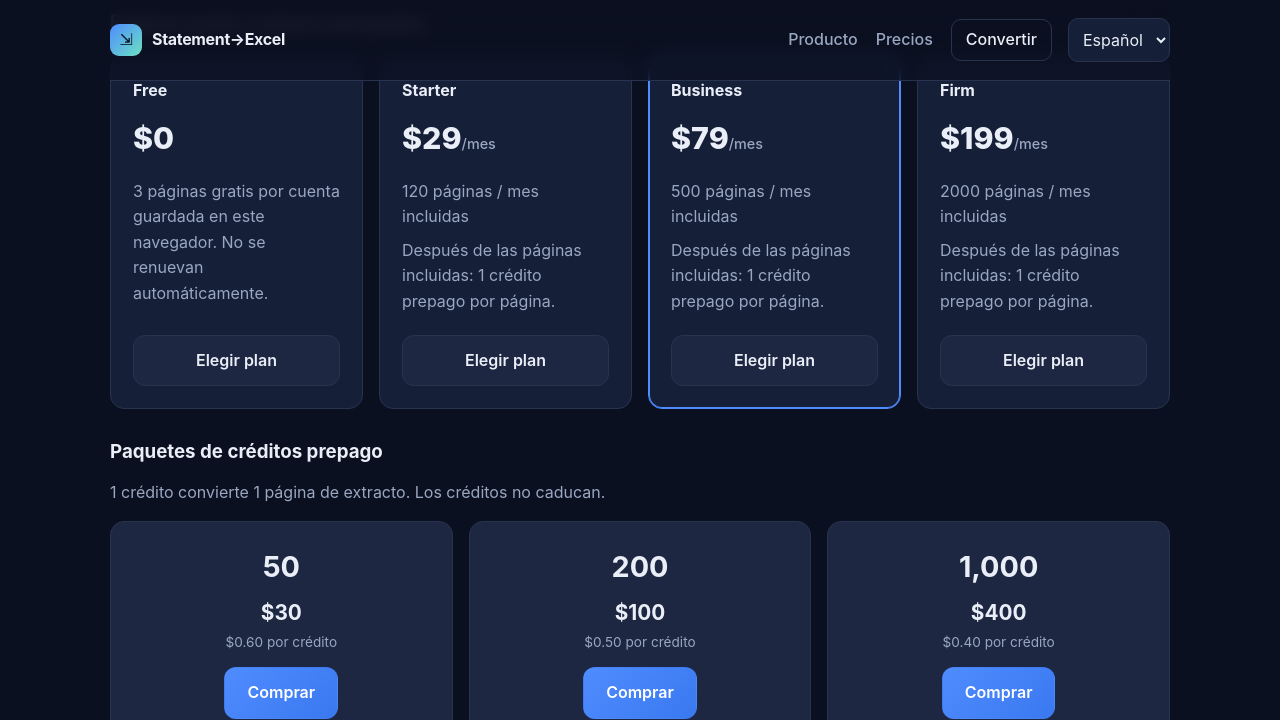
Test: server-authoritative checkout › shows only the localized checkout error in es
(page scrolled)
What coordinates should you click on to do the following:
click the button "Elegir plan" below "120"
I would click on:
 (506, 360)
Its box is 402,334 -> 609,386.
(page scrolled)
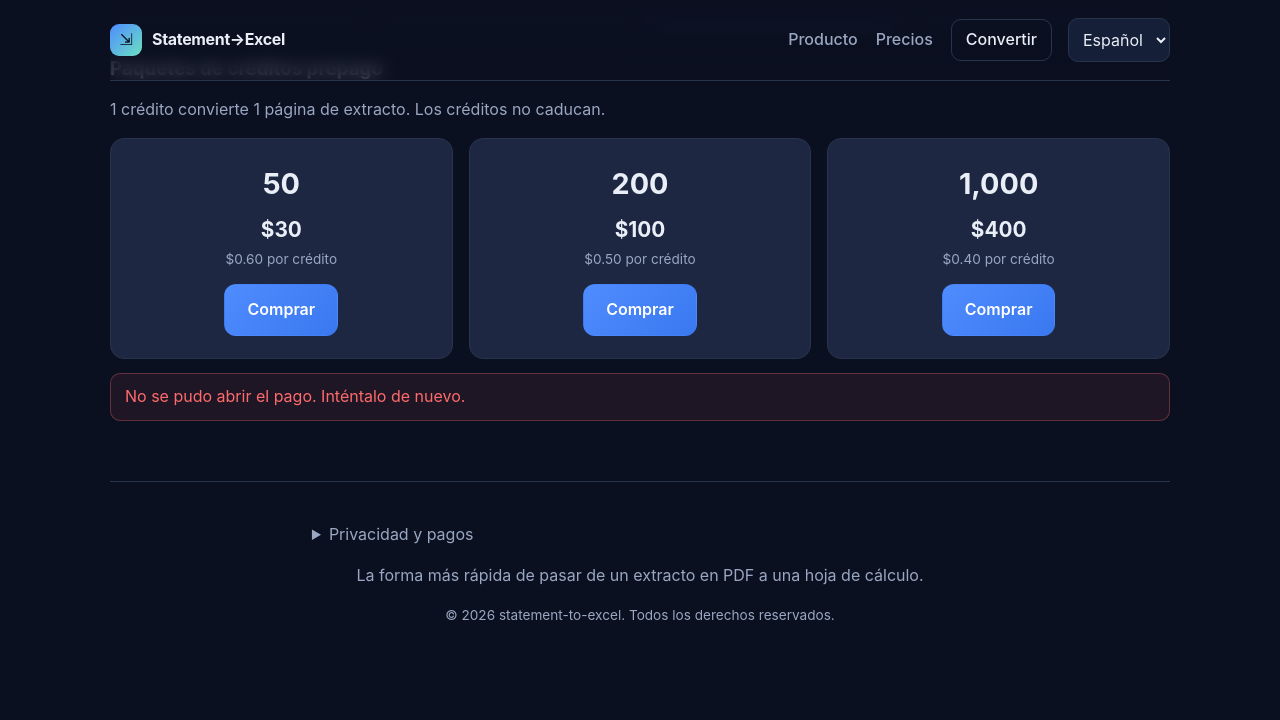
Expected: the message does not show "STRIPE_OMITTED", 110,373 -> 1170,421
Expected: the message reads "No se pudo abrir el pago. Inténtalo de nuevo.", 125,386 -> 465,406
